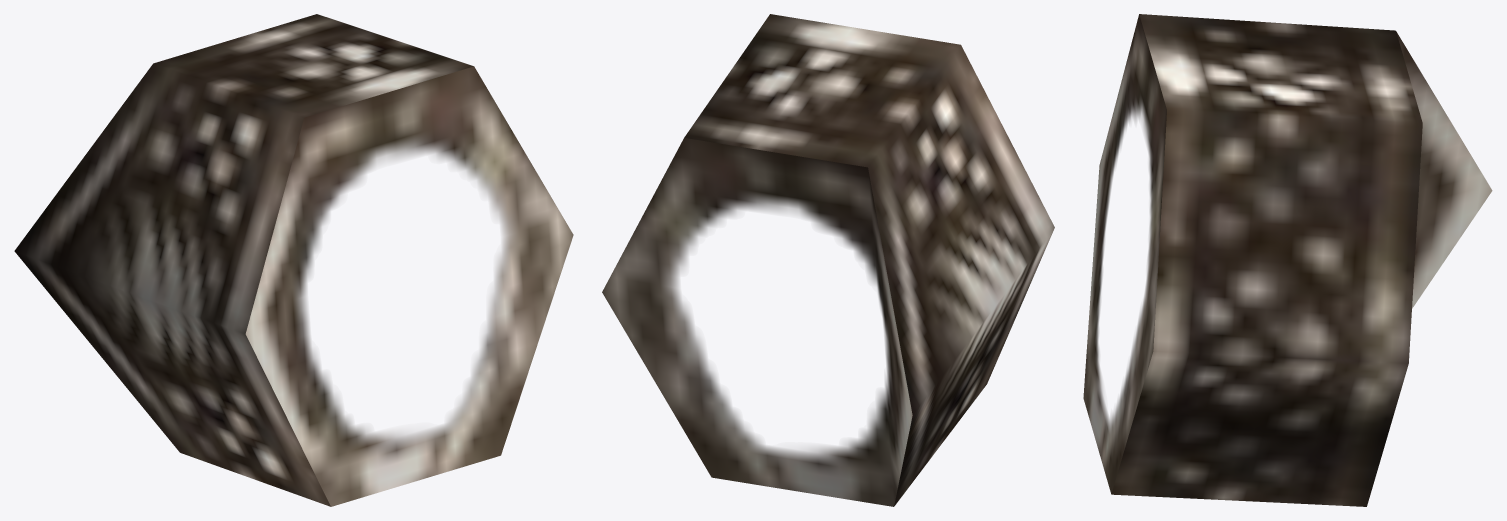
The model's file is ex01shadow_rock_7_wrist_right.glb.
3 renders of one model, left to right at view 1: azimuth 30°, elevation 25°; view 2: azimuth 150°, elevation 25°; view 3: azimuth 270°, elevation 25°, orthographic. The views are drawn at different scales.
Parts seen in each view (by area): view 1: model_ex01shadow_rock_7_wrist_right; view 2: model_ex01shadow_rock_7_wrist_right; view 3: model_ex01shadow_rock_7_wrist_right.
Boxes of the visible parts, x1=… form: model_ex01shadow_rock_7_wrist_right: x1=14, y1=14, x2=573, y2=506; model_ex01shadow_rock_7_wrist_right: x1=602, y1=14, x2=1054, y2=506; model_ex01shadow_rock_7_wrist_right: x1=1083, y1=14, x2=1492, y2=506.
Bounding box in the file's own units: 0.1757 × 0.1704 × 0.1511.
1 material, 1 textured.
